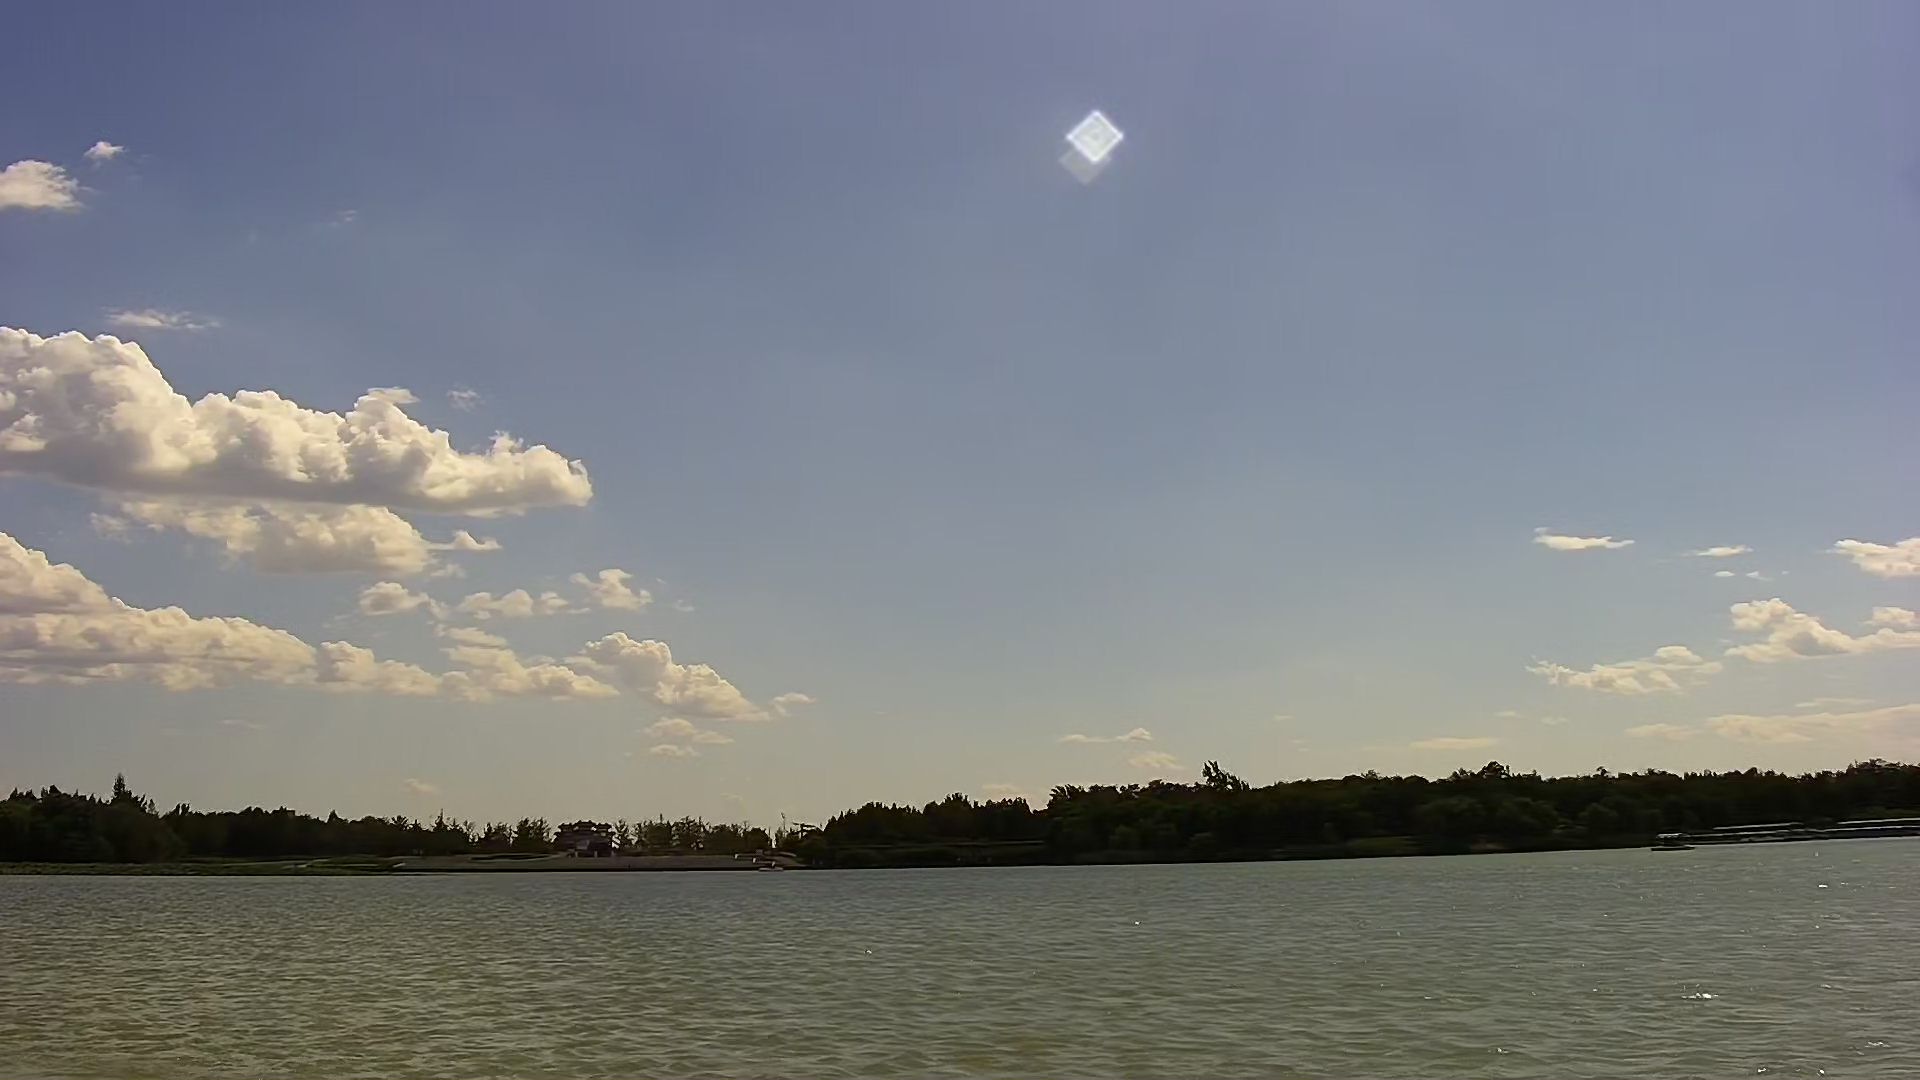boat: (1648, 825, 1685, 847)
harbor: (1704, 814, 1917, 837)
